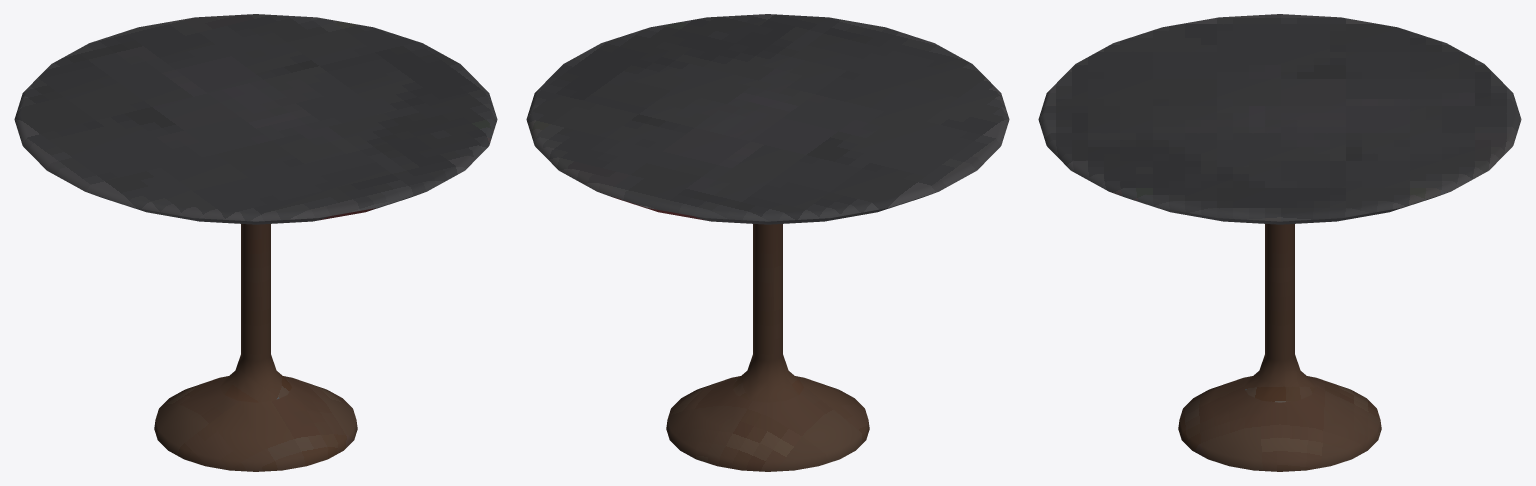
Rendered from a_com_building_b01_table01.gltf.
3 renders of one model, left to right at view 1: azimuth 30°, elevation 25°; view 2: azimuth 150°, elevation 25°; view 3: azimuth 270°, elevation 25°, orthographic.
Parts seen in each view (by area): view 1: a_com_building_b01_table01_mesh_shape:a_com_building_b01_tab; view 2: a_com_building_b01_table01_mesh_shape:a_com_building_b01_tab; view 3: a_com_building_b01_table01_mesh_shape:a_com_building_b01_tab.
Boxes of the visible parts, x1=… form: a_com_building_b01_table01_mesh_shape:a_com_building_b01_tab: x1=14, y1=14, x2=497, y2=471; a_com_building_b01_table01_mesh_shape:a_com_building_b01_tab: x1=526, y1=14, x2=1009, y2=471; a_com_building_b01_table01_mesh_shape:a_com_building_b01_tab: x1=1038, y1=14, x2=1521, y2=471.
Bounding box in the file's own units: 1.22 × 0.8773 × 1.22.
1 material, 1 textured.
